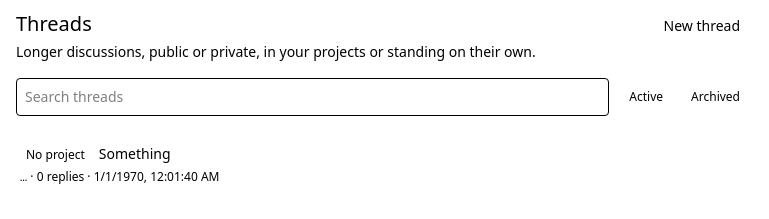
Test: ThreadsView list › says which empty it is when a search finds nothing
Type "zzz" into the search field labelled "Search threads" at (313, 97), box x1=16 y1=78 x2=609 y2=116
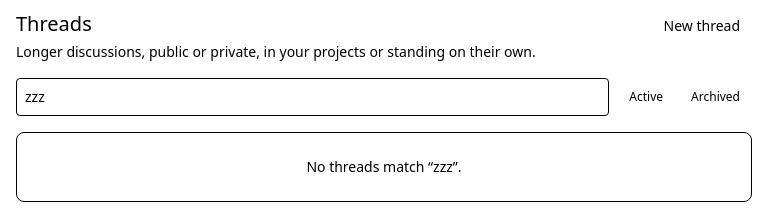
Check: the text "No threads match “zzz”." is shown, box x1=16 y1=132 x2=752 y2=202
